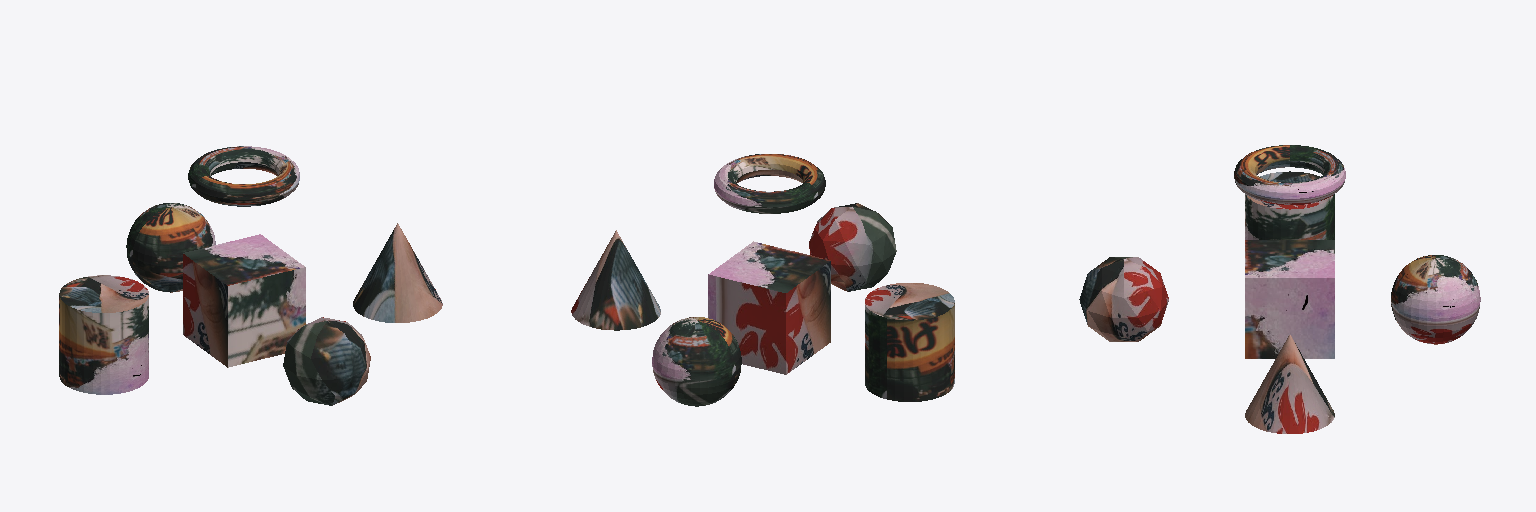
3 renders of one model, left to right at view 1: azimuth 30°, elevation 25°; view 2: azimuth 150°, elevation 25°; view 3: azimuth 270°, elevation 25°, orthographic.
Visible parts, largest first — view 1: Torus; view 2: Torus; view 3: Torus.
Part boxes in pixels (bbox=[...]): Torus: bbox=[59, 146, 442, 405]; Torus: bbox=[571, 154, 954, 406]; Torus: bbox=[1079, 145, 1480, 433].
Bounding box in the file's own units: 9.53 × 4.3 × 8.92.
1 materials, 1 textured.